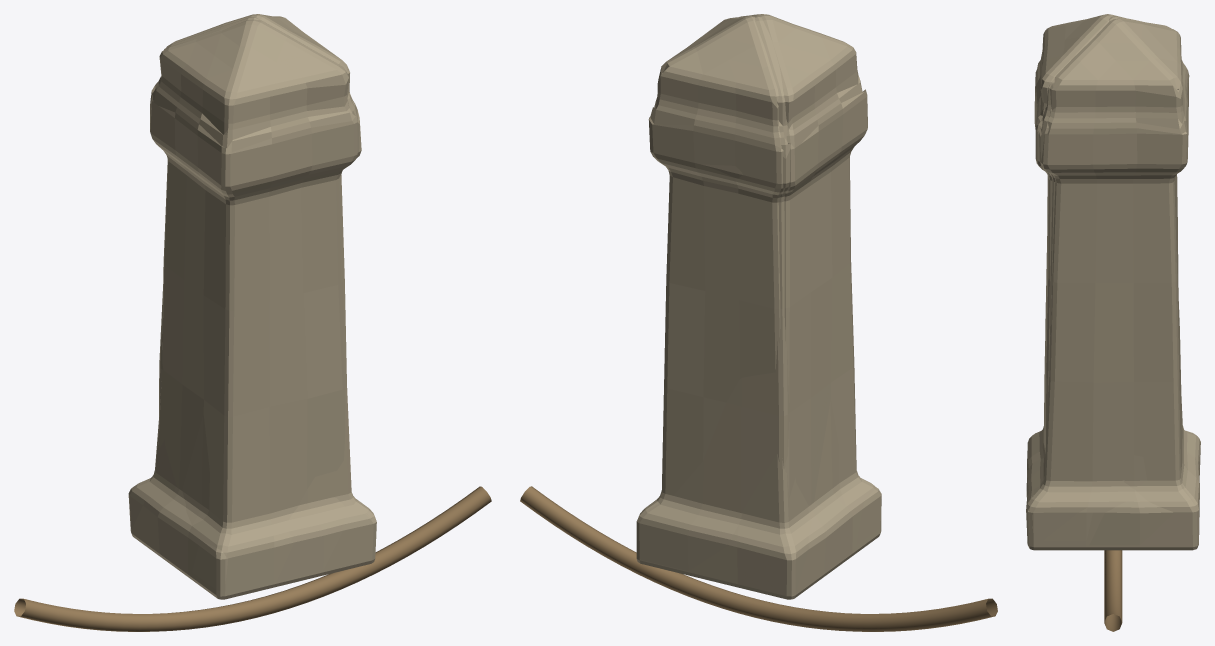
The model's file is StoneFence.fbx.
The picture shows the model from 3 angles, left to right: view 1: azimuth 30°, elevation 25°; view 2: azimuth 150°, elevation 25°; view 3: azimuth 270°, elevation 25°; orthographic projection. The views are drawn at different scales.
Visible parts, largest first — view 1: StonePost0, FenceRope, StonePost1, StonePost2; view 2: StonePost2, StonePost0, StonePost1, FenceRope; view 3: StonePost2, StonePost0, StonePost1, FenceRope.
Boxes of the visible parts, bbox=[...] form: StonePost0: bbox=[131, 19, 376, 599]; FenceRope: bbox=[14, 486, 491, 631]; StonePost1: bbox=[150, 17, 359, 582]; StonePost2: bbox=[128, 14, 375, 591]; StonePost2: bbox=[636, 16, 881, 599]; StonePost0: bbox=[739, 14, 881, 599]; StonePost1: bbox=[636, 16, 845, 599]; FenceRope: bbox=[520, 486, 997, 631]; StonePost2: bbox=[1027, 18, 1200, 550]; StonePost0: bbox=[1026, 14, 1174, 548]; StonePost1: bbox=[1026, 16, 1199, 540]; FenceRope: bbox=[1104, 550, 1122, 631].
Bounding box in the file's own units: 1.02 × 1.23 × 0.3469.
